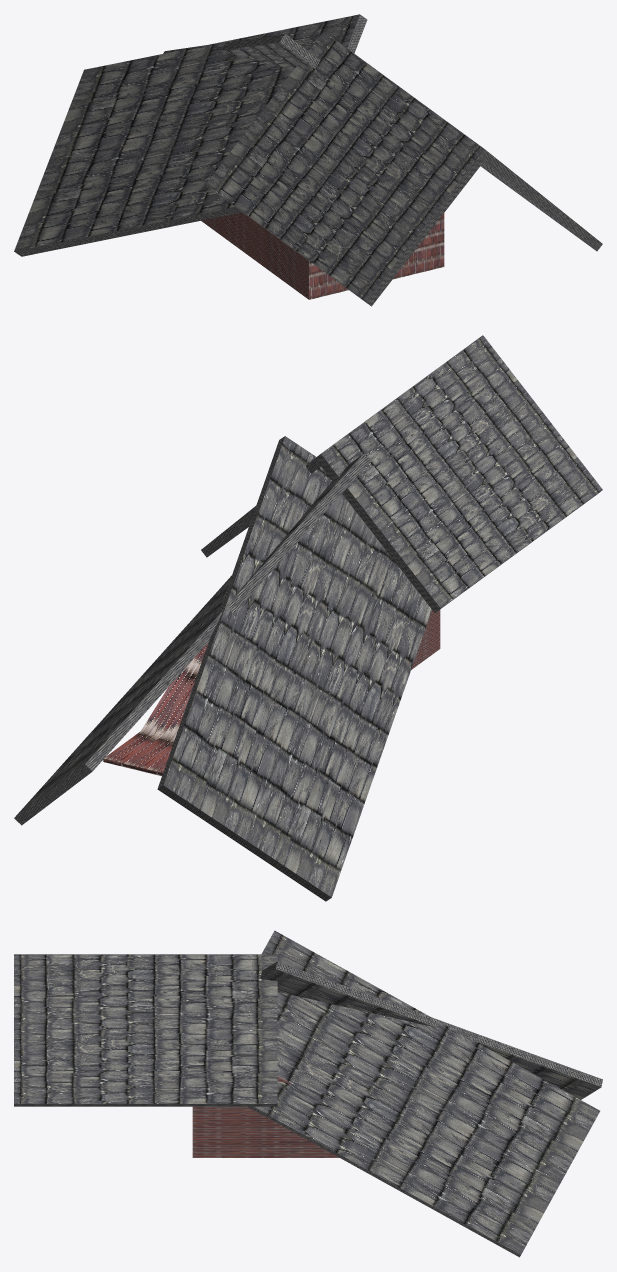
Rendered from halbhinderniss low.fbx.
The picture shows the model from 3 angles, top to bottom: view 1: azimuth 30°, elevation 25°; view 2: azimuth 150°, elevation 25°; view 3: azimuth 270°, elevation 25°; orthographic projection. The views are drawn at different scales.
Parts seen in each view (by area): view 1: Box007, Box009, Box001, Box008, Box002; view 2: Box009, Box007, Box008, Box001, Box002; view 3: Box008, Box002, Box009, Box001.
Part boxes in pixels (bbox=[...]): Box007: bbox=[205, 32, 485, 306]; Box009: bbox=[14, 14, 367, 256]; Box001: bbox=[201, 212, 444, 299]; Box008: bbox=[163, 33, 320, 71]; Box002: bbox=[324, 31, 602, 251]; Box009: bbox=[157, 436, 431, 901]; Box007: bbox=[315, 335, 602, 612]; Box008: bbox=[14, 453, 371, 825]; Box001: bbox=[103, 609, 440, 775]; Box002: bbox=[201, 335, 482, 557]; Box008: bbox=[248, 930, 599, 1257]; Box002: bbox=[14, 954, 277, 1106]; Box009: bbox=[260, 961, 602, 1099]; Box001: bbox=[192, 1076, 339, 1157].
Bounding box in the file's own units: 1.89 × 1.75 × 3.71.
2 materials, 2 textured.
